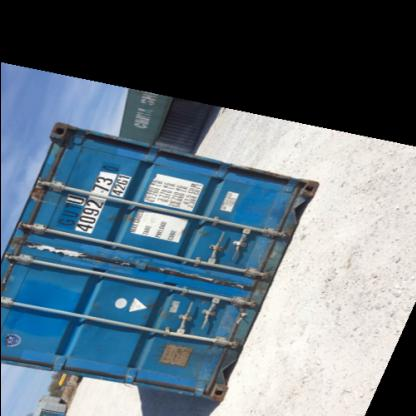Damage: (23, 239, 85, 265), (26, 177, 60, 216), (242, 227, 270, 272), (153, 262, 207, 282), (112, 255, 138, 273), (224, 276, 240, 296)
